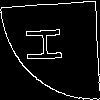H: (25, 25, 72, 64)
